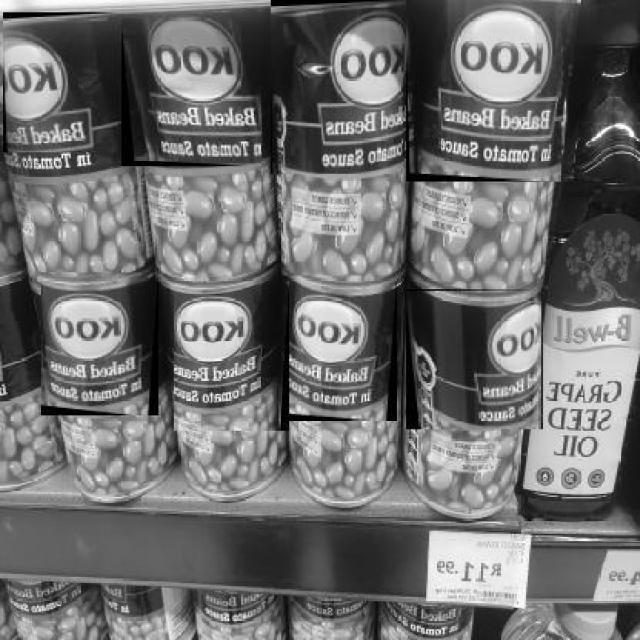Beans: (405, 0, 576, 183), (269, 0, 403, 175), (120, 19, 262, 168), (405, 289, 543, 431), (172, 282, 290, 433), (276, 276, 396, 422), (39, 272, 159, 416), (2, 12, 119, 154)
